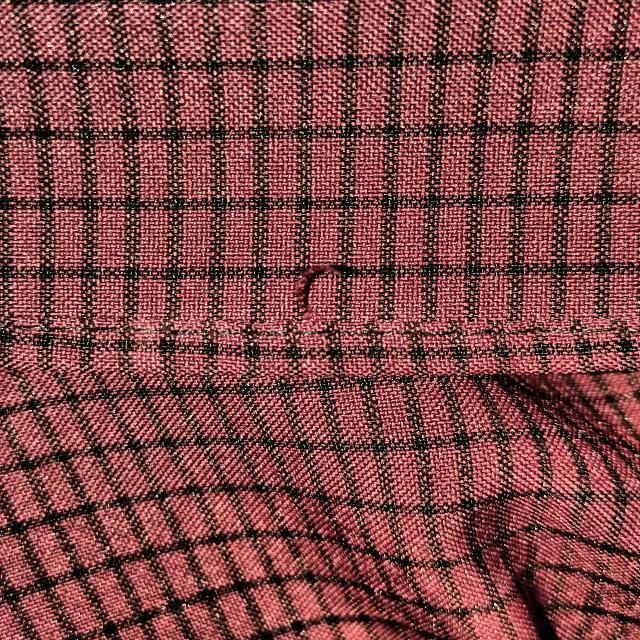gray stitch: (265, 251, 399, 361)
